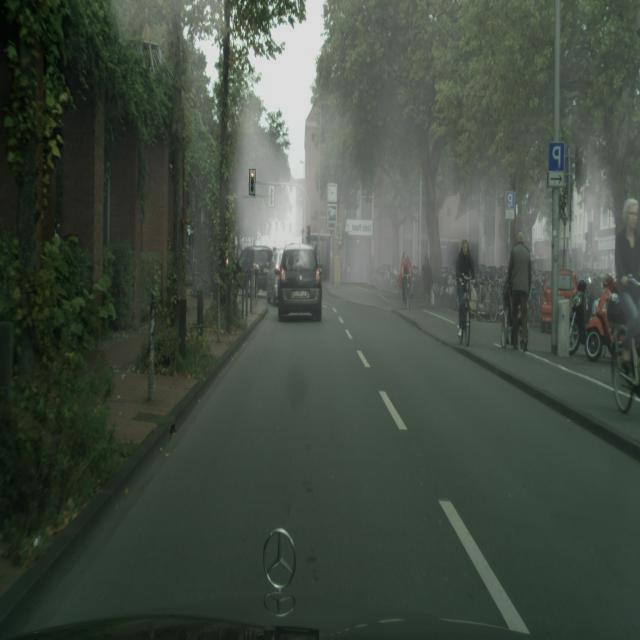bus: (585, 275, 618, 362), (568, 278, 588, 355)
car: (611, 316, 640, 414), (458, 276, 474, 345), (402, 272, 411, 309)
person: (615, 196, 640, 371), (504, 229, 531, 351), (456, 238, 475, 338), (399, 251, 412, 304), (422, 254, 432, 306)
truck: (277, 242, 322, 321), (540, 268, 580, 332), (235, 246, 274, 296), (267, 251, 282, 304)
